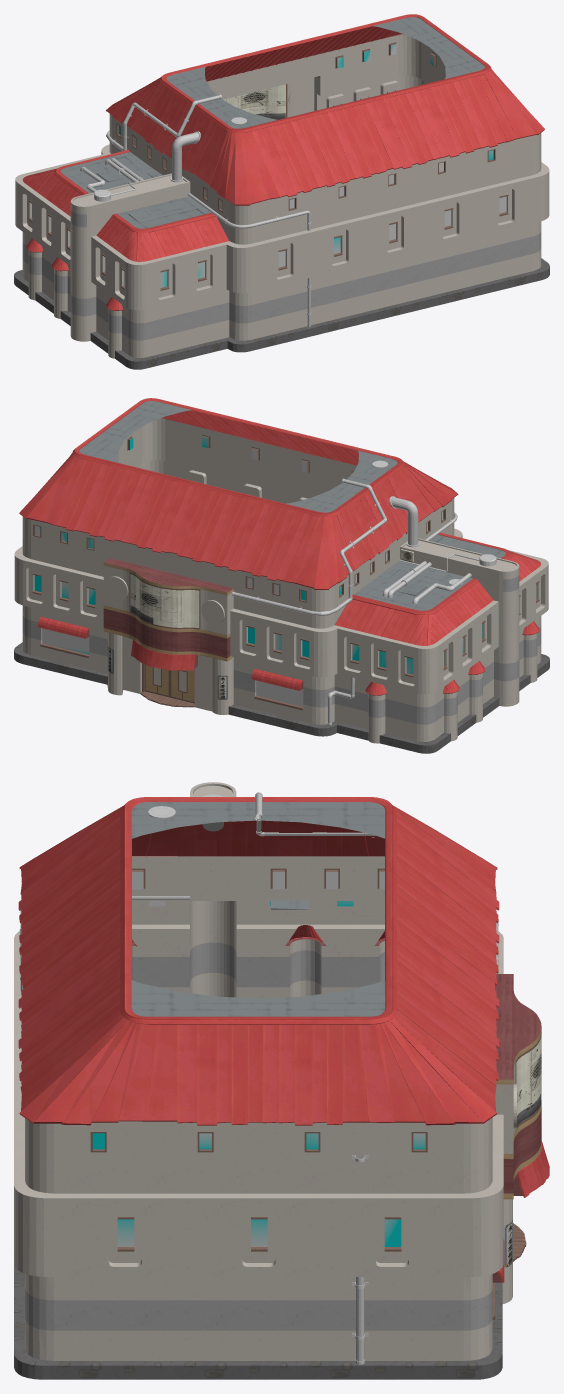
Rendered from SM_ENV_KNVLLG_AreaD_Tower_A_Part01.fbx.
3 views of the same model, one above another, from view 1: azimuth 30°, elevation 25°; view 2: azimuth 150°, elevation 25°; view 3: azimuth 270°, elevation 25° (orthographic). The views are drawn at different scales.
Visible parts, largest first — view 1: SM_ENV_KNVLLG_AreaD_Tower_A_Part01.mo; view 2: SM_ENV_KNVLLG_AreaD_Tower_A_Part01.mo; view 3: SM_ENV_KNVLLG_AreaD_Tower_A_Part01.mo.
Part boxes in pixels (<box>): SM_ENV_KNVLLG_AreaD_Tower_A_Part01.mo: <box>14,14,549,369</box>; SM_ENV_KNVLLG_AreaD_Tower_A_Part01.mo: <box>14,398,549,753</box>; SM_ENV_KNVLLG_AreaD_Tower_A_Part01.mo: <box>14,782,549,1379</box>.
Size of the model in its own units: 7872 by 3542 by 4918.
